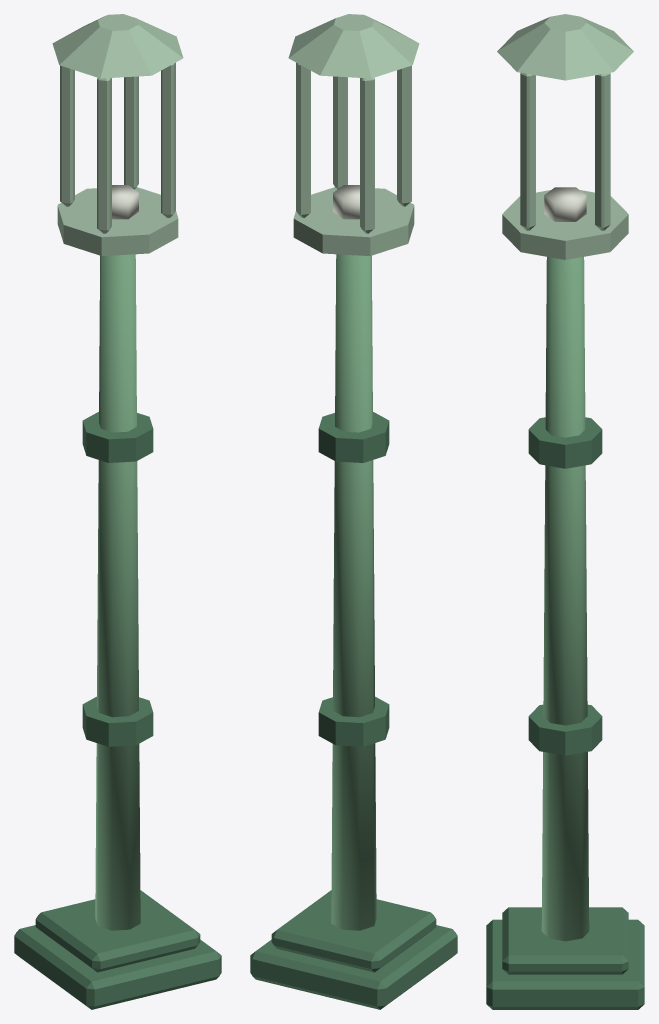
Rendered from green_dungeon_lamp_v0.glb.
3 renders of one model, left to right at view 1: azimuth 30°, elevation 25°; view 2: azimuth 150°, elevation 25°; view 3: azimuth 270°, elevation 25°, orthographic.
Visible parts, largest first — view 1: green_dungeon_lamp_v0; view 2: green_dungeon_lamp_v0; view 3: green_dungeon_lamp_v0.
Part boxes in pixels (x1,y1,x2,y2): green_dungeon_lamp_v0: (14,14,221,1009); green_dungeon_lamp_v0: (250,14,457,1009); green_dungeon_lamp_v0: (486,14,644,1009).
Size of the model in its own units: 0.3 by 2 by 0.3.
